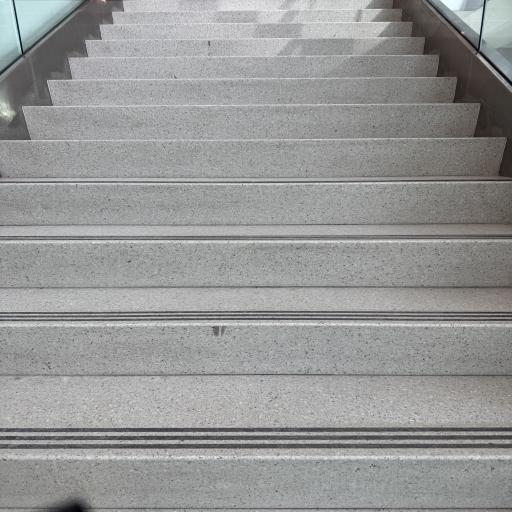Stairs: (0, 0, 512, 510)
